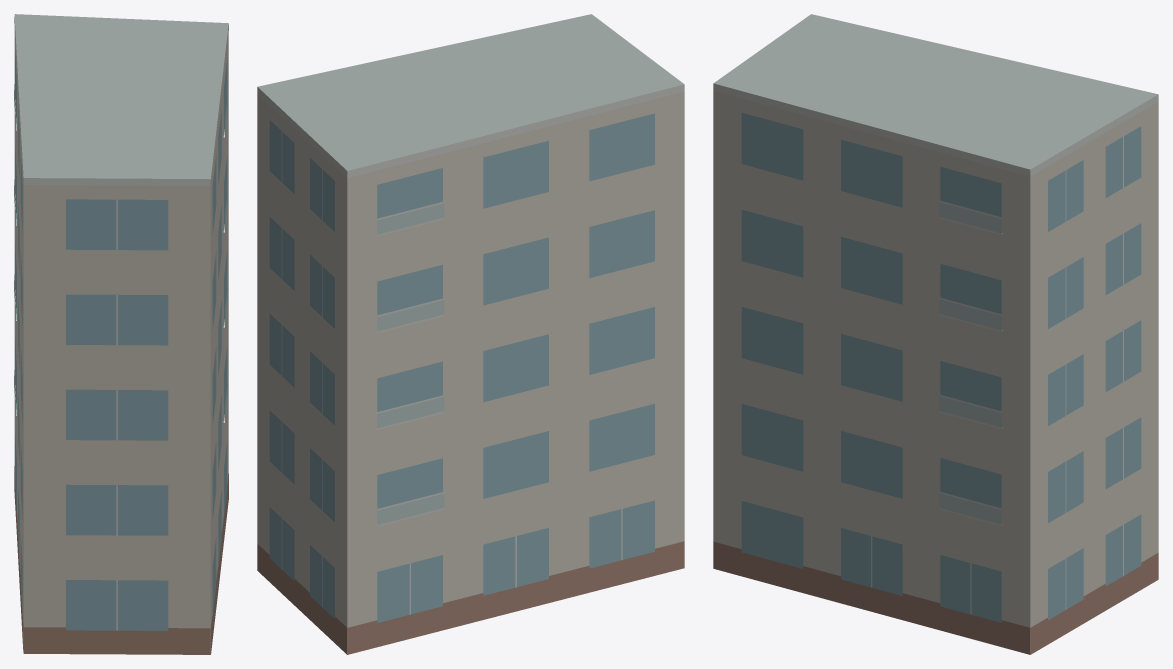
The model's file is survey-upis-32487836.glb.
3 views of the same model, side by side, from view 1: azimuth 30°, elevation 25°; view 2: azimuth 150°, elevation 25°; view 3: azimuth 270°, elevation 25° (orthographic). The views are drawn at different scales.
Parts seen in each view (by area): view 1: survey-upis-32487836.tmp; view 2: survey-upis-32487836.tmp; view 3: survey-upis-32487836.tmp.
Part boxes in pixels (x1,y1,x2,y2): survey-upis-32487836.tmp: [14, 14, 228, 654]; survey-upis-32487836.tmp: [257, 14, 684, 654]; survey-upis-32487836.tmp: [713, 14, 1158, 654].
Size of the model in its own units: 11.32 by 16.45 by 13.69.
